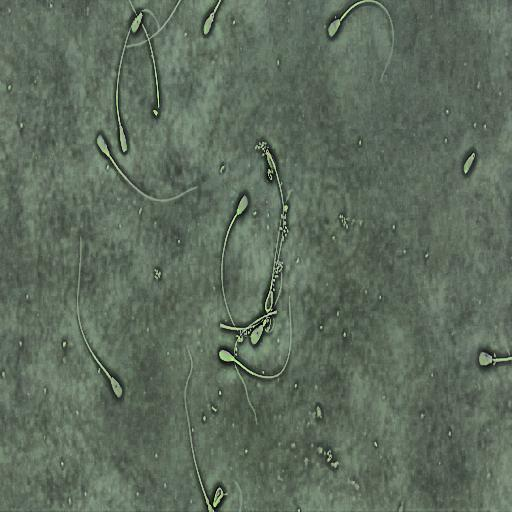coiled-tail: (265, 213, 283, 311), (209, 478, 233, 512), (260, 314, 274, 333), (213, 488, 227, 506), (266, 284, 271, 310)
folded-tail: (267, 148, 285, 269)
loose-head: (462, 148, 477, 178), (131, 11, 144, 35)
loose-tail: (233, 308, 278, 427), (126, 0, 162, 112), (122, 0, 182, 51)
normal: (72, 223, 126, 406), (93, 123, 204, 211), (112, 4, 163, 158), (214, 291, 296, 386), (323, 0, 398, 85), (218, 190, 255, 342), (264, 143, 287, 280), (262, 204, 285, 313), (248, 310, 278, 348)
